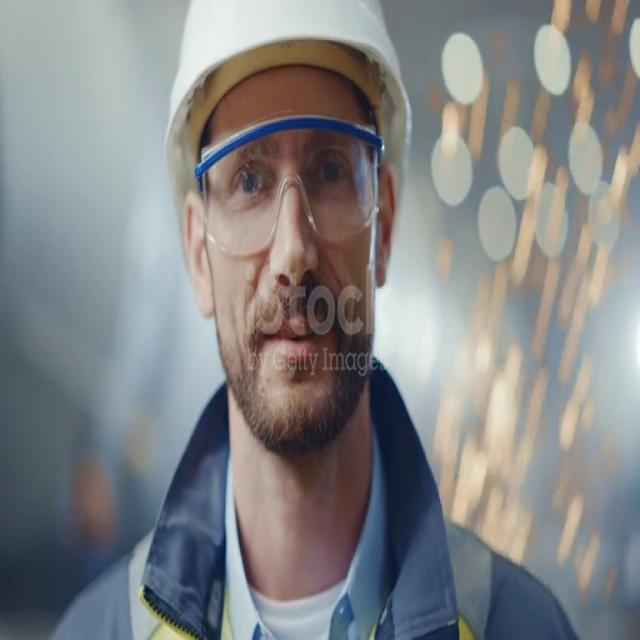capacete: (125, 0, 441, 262)
